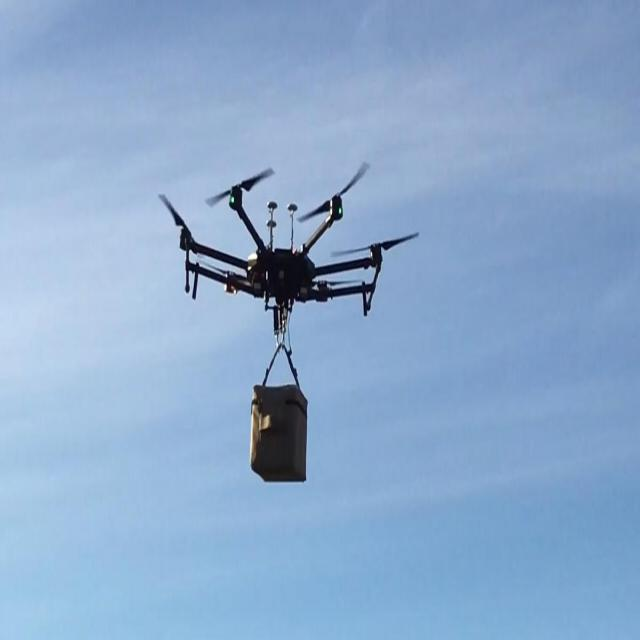drones: (151, 142, 422, 343)
